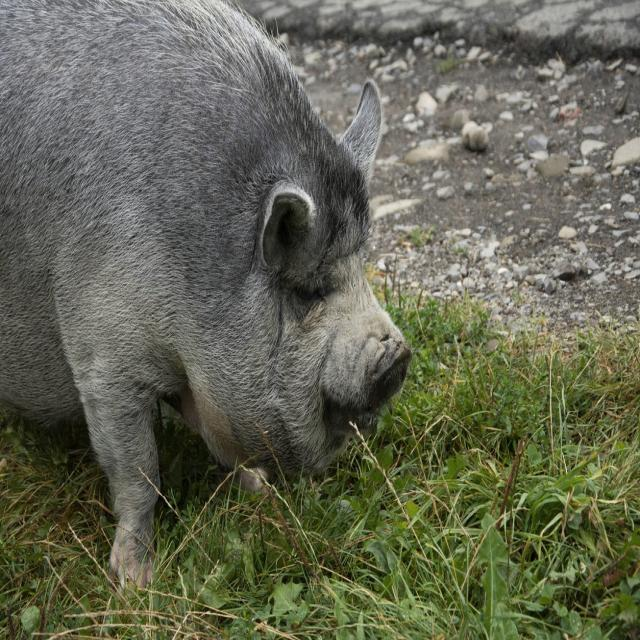pig: (1, 0, 411, 589)
